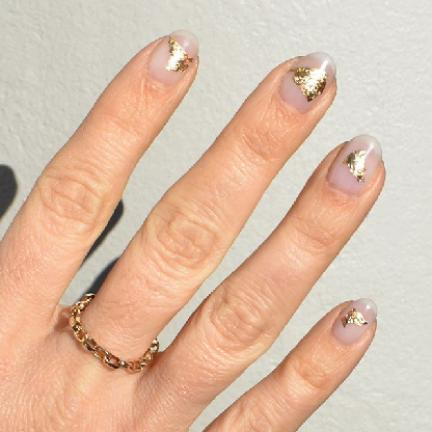Nail: (278, 52, 336, 111), (327, 134, 382, 195), (149, 29, 199, 84), (333, 298, 377, 343)
